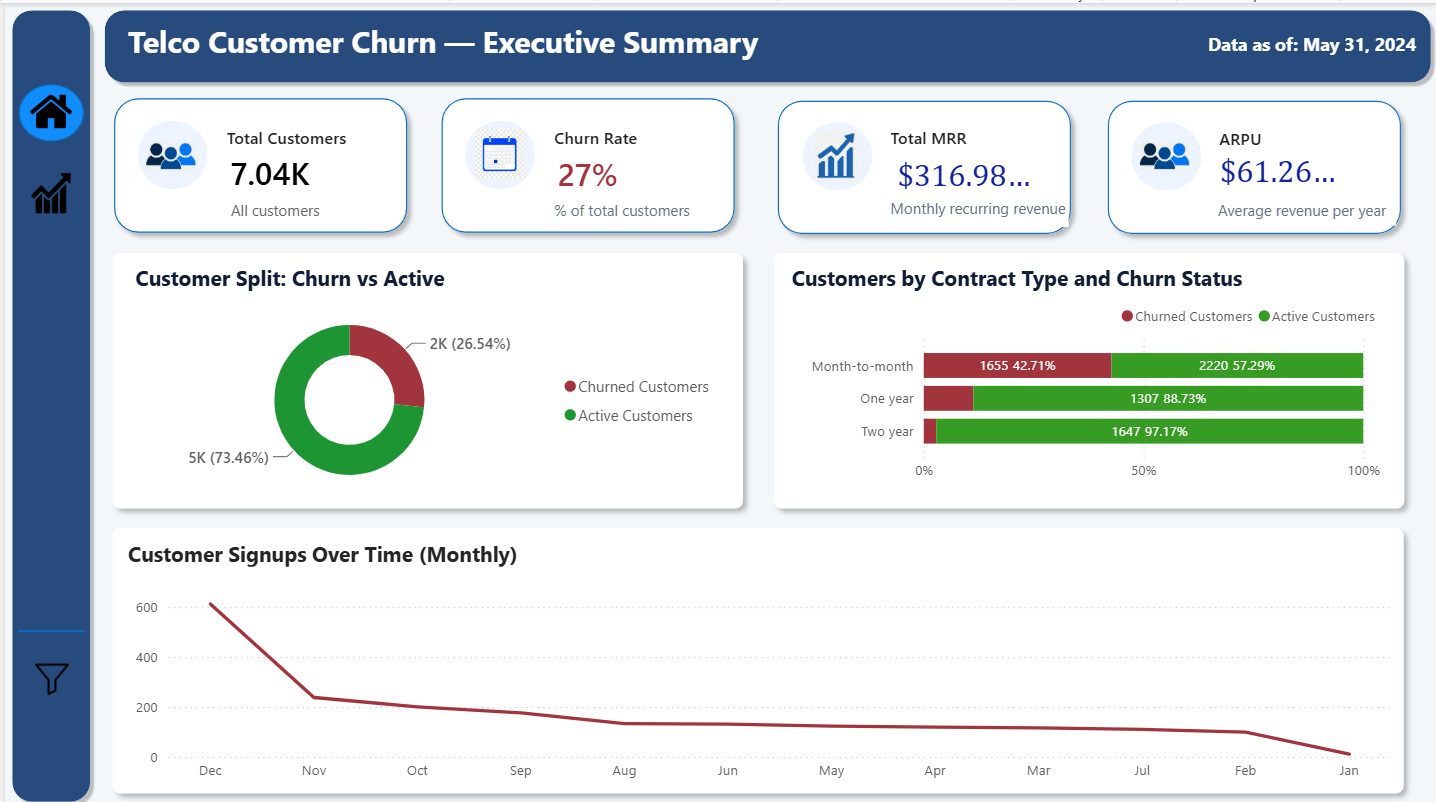

What the dashboard file says about the page in this screenshot:
{"tool":"powerbi","page":{"name":"Duplicate of Page 2","canvas":[1280,720],"ordinal":0},"visuals":[{"type":"shape","box":[82.5,0,1197.5,77.5],"z":0},{"type":"textbox","box":[104.7,11.6,669.8,53.5],"z":1000},{"type":"textbox","box":[1069.8,19.8,197.7,36],"z":3000},{"type":"shape","box":[85.2,73.1,287,145.2],"z":5000},{"type":"cardVisual","title":"Total Enrollment Records","fields":{"Data":["_Measures.Total Customers"]},"box":[190.1,112,94.3,77.9],"z":6000},{"type":"shape","box":[118.3,105.1,62.8,61.6],"z":7000},{"type":"image","box":[126.1,113.4,44.2,46.5],"z":8000},{"type":"textbox","box":[193.1,104.5,155.8,31.4],"z":9000},{"type":"textbox","box":[193.1,170.8,138.4,31.4],"z":10000},{"type":"shape","box":[677.7,74.4,287,144],"z":11000},{"type":"cardVisual","title":"Total Enrollment Records","fields":{"Data":["_Measures.Total MRR"]},"box":[780.5,115.6,158.1,77.9],"z":12000},{"type":"shape","box":[712.3,105.7,62.8,61.6],"z":13000},{"type":"image","box":[720.1,114.1,44.2,46.5],"z":14000},{"type":"textbox","box":[786,104.7,141.9,31.4],"z":15000},{"type":"textbox","box":[786,169.8,164,30.2],"z":16000},{"type":"shape","box":[972.3,74.4,287,144],"z":17000},{"type":"cardVisual","title":"Total Enrollment Records","fields":{"Data":["_Measures.ARPU"]},"box":[1068.3,112.9,141.2,77.5],"z":18000},{"type":"shape","box":[1006.2,105.9,62.8,61.6],"z":19000},{"type":"image","box":[1014,114.2,44.2,46.5],"z":20000},{"type":"textbox","box":[1080.2,105.8,153.5,31.4],"z":21000},{"type":"textbox","box":[1079.1,170.9,164,27.9],"z":22000},{"type":"shape","box":[377.2,72.5,287,145.2],"z":23000},{"type":"shape","box":[411.1,104.5,62.8,61.6],"z":24000},{"type":"image","box":[420.4,111.9,44.2,46.5],"z":25000},{"type":"textbox","box":[485.2,105.1,133.7,31.4],"z":26000},{"type":"textbox","box":[485.2,171.3,150,30.2],"z":27000},{"type":"cardVisual","title":"Total Enrollment Records","fields":{"Data":["_Measures.Churn Rate"]},"box":[485.8,131.1,70.9,41.9],"z":28000},{"type":"shape","box":[82.6,210.5,590,255],"z":29000},{"type":"textbox","box":[111.6,227.9,291,42],"z":30000},{"type":"donutChart","fields":{"Y":["_Measures.Churned Customers","_Measures.Active Customers"]},"box":[111.6,264,531.4,182.6],"z":31000},{"type":"shape","box":[673.3,210.5,590,255],"z":32000},{"type":"textbox","box":[697.7,227.9,419.8,41.9],"z":33000},{"type":"hundredPercentStackedBarChart","fields":{"Category":["dim_contract.Contract"],"Y":["_Measures.Churned Customers","_Measures.Active Customers"]},"box":[708.1,260.5,525.6,175.6],"z":34000},{"type":"shape","box":[82.6,455.8,1180.2,264],"z":35000},{"type":"textbox","box":[104.7,479.1,361.6,31.4],"z":36000},{"type":"lineChart","fields":{"Category":["Dim_Date.MonthName"],"Y":["_Measures.Signups This Month"]},"box":[111.6,503.5,1131.4,200],"z":37000},{"type":"shape","box":[0,0,82.5,720],"z":38000},{"type":"shape","box":[12.5,72.5,58.1,51.2],"z":39000},{"type":"shape","box":[12.5,535,58.8,52.5],"z":43000},{"type":"image","box":[22.1,74.4,37.2,44.2],"z":44001},{"type":"image","box":[17.4,150,46.5,40.7],"z":44002},{"type":"image","box":[26.7,587.2,30.2,33.7],"z":44003}]}

Visuals, with their boxes on the page's 1280x720 design canvas (x1, y1, x2, y2). These are canvas units, not pixel positions in the 1436x802 screenshot, which may show the page scaled, cropped or inside an application window:
shape: {"x1": 82, "y1": 0, "x2": 1280, "y2": 78}
textbox: {"x1": 105, "y1": 12, "x2": 774, "y2": 65}
textbox: {"x1": 1070, "y1": 20, "x2": 1268, "y2": 56}
shape: {"x1": 85, "y1": 73, "x2": 372, "y2": 218}
"Total Enrollment Records" cardVisual: {"x1": 190, "y1": 112, "x2": 284, "y2": 190}
shape: {"x1": 118, "y1": 105, "x2": 181, "y2": 167}
image: {"x1": 126, "y1": 113, "x2": 170, "y2": 160}
textbox: {"x1": 193, "y1": 104, "x2": 349, "y2": 136}
textbox: {"x1": 193, "y1": 171, "x2": 332, "y2": 202}
shape: {"x1": 678, "y1": 74, "x2": 965, "y2": 218}
"Total Enrollment Records" cardVisual: {"x1": 780, "y1": 116, "x2": 939, "y2": 194}
shape: {"x1": 712, "y1": 106, "x2": 775, "y2": 167}
image: {"x1": 720, "y1": 114, "x2": 764, "y2": 161}
textbox: {"x1": 786, "y1": 105, "x2": 928, "y2": 136}
textbox: {"x1": 786, "y1": 170, "x2": 950, "y2": 200}
shape: {"x1": 972, "y1": 74, "x2": 1259, "y2": 218}
"Total Enrollment Records" cardVisual: {"x1": 1068, "y1": 113, "x2": 1210, "y2": 190}
shape: {"x1": 1006, "y1": 106, "x2": 1069, "y2": 168}
image: {"x1": 1014, "y1": 114, "x2": 1058, "y2": 161}
textbox: {"x1": 1080, "y1": 106, "x2": 1234, "y2": 137}
textbox: {"x1": 1079, "y1": 171, "x2": 1243, "y2": 199}
shape: {"x1": 377, "y1": 72, "x2": 664, "y2": 218}
shape: {"x1": 411, "y1": 104, "x2": 474, "y2": 166}
image: {"x1": 420, "y1": 112, "x2": 465, "y2": 158}
textbox: {"x1": 485, "y1": 105, "x2": 619, "y2": 136}
textbox: {"x1": 485, "y1": 171, "x2": 635, "y2": 202}
"Total Enrollment Records" cardVisual: {"x1": 486, "y1": 131, "x2": 557, "y2": 173}
shape: {"x1": 83, "y1": 210, "x2": 673, "y2": 466}
textbox: {"x1": 112, "y1": 228, "x2": 403, "y2": 270}
donutChart - _Measures.Churned Customers x _Measures.Active Customers: {"x1": 112, "y1": 264, "x2": 643, "y2": 447}
shape: {"x1": 673, "y1": 210, "x2": 1263, "y2": 466}
textbox: {"x1": 698, "y1": 228, "x2": 1118, "y2": 270}
hundredPercentStackedBarChart - dim_contract.Contract x _Measures.Churned Customers: {"x1": 708, "y1": 260, "x2": 1234, "y2": 436}
shape: {"x1": 83, "y1": 456, "x2": 1263, "y2": 720}
textbox: {"x1": 105, "y1": 479, "x2": 466, "y2": 510}
lineChart - Dim_Date.MonthName x _Measures.Signups This Month: {"x1": 112, "y1": 504, "x2": 1243, "y2": 704}
shape: {"x1": 0, "y1": 0, "x2": 82, "y2": 720}
shape: {"x1": 12, "y1": 72, "x2": 71, "y2": 124}
shape: {"x1": 12, "y1": 535, "x2": 71, "y2": 588}
image: {"x1": 22, "y1": 74, "x2": 59, "y2": 119}
image: {"x1": 17, "y1": 150, "x2": 64, "y2": 191}
image: {"x1": 27, "y1": 587, "x2": 57, "y2": 621}
